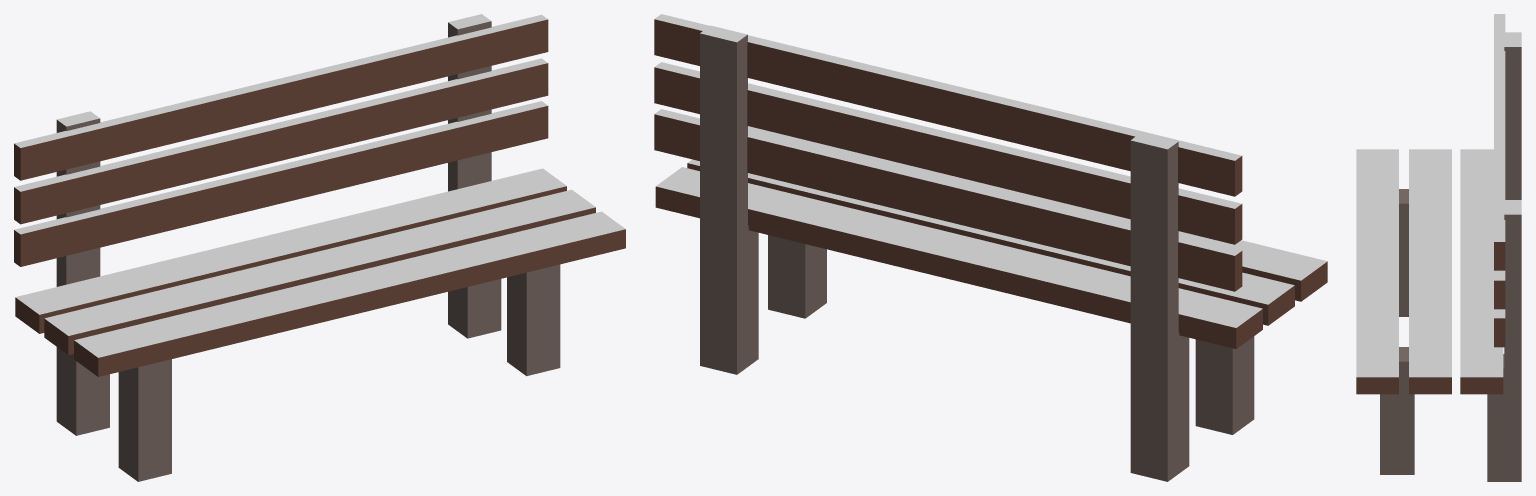
The model's file is snow_bench.fbx.
The picture shows the model from 3 angles, left to right: view 1: azimuth 30°, elevation 25°; view 2: azimuth 150°, elevation 25°; view 3: azimuth 270°, elevation 25°; orthographic projection. The views are drawn at different scales.
Parts seen in each view (by area): view 1: pCube11; view 2: pCube11; view 3: pCube11.
Part boxes in pixels (x1,y1,x2,y2): pCube11: [14, 14, 625, 481]; pCube11: [654, 14, 1327, 481]; pCube11: [1356, 14, 1521, 481].
Size of the model in its own units: 5.38 by 2.98 by 1.65.
